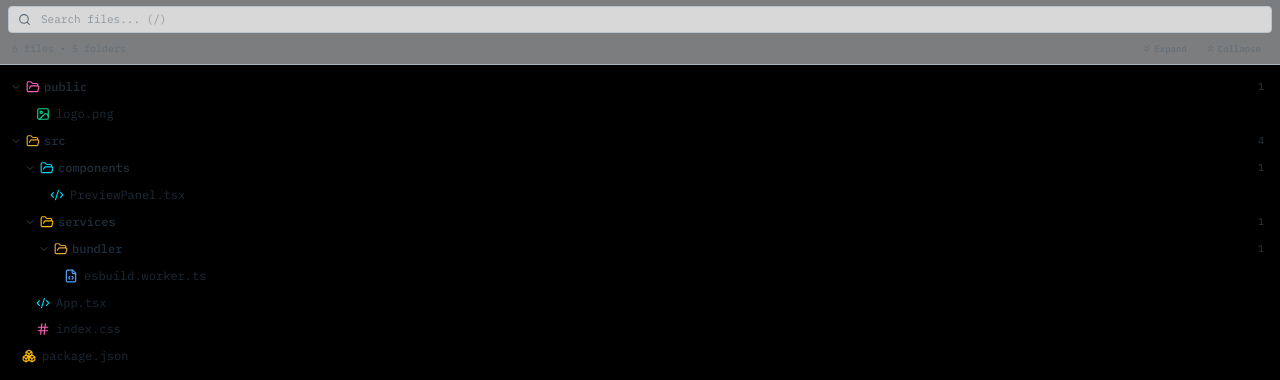
Test: FileTree & Global File Search › toggles folder expansion state on clicking folder node
// Click to collapse
Click the button with aria-label "Folder src, expanded".
click(16, 140)  # box [10,132,1264,148]
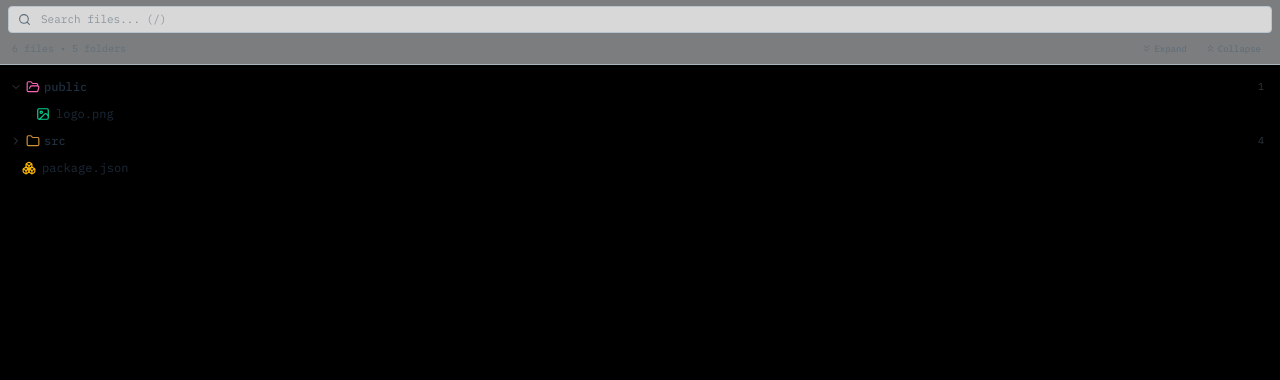
expect the button with aria-label "Folder src, collapsed" is collapsed: met
// Click to expand again
Click the button with aria-label "Folder src, collapsed".
click(16, 140)  # box [10,132,1264,148]
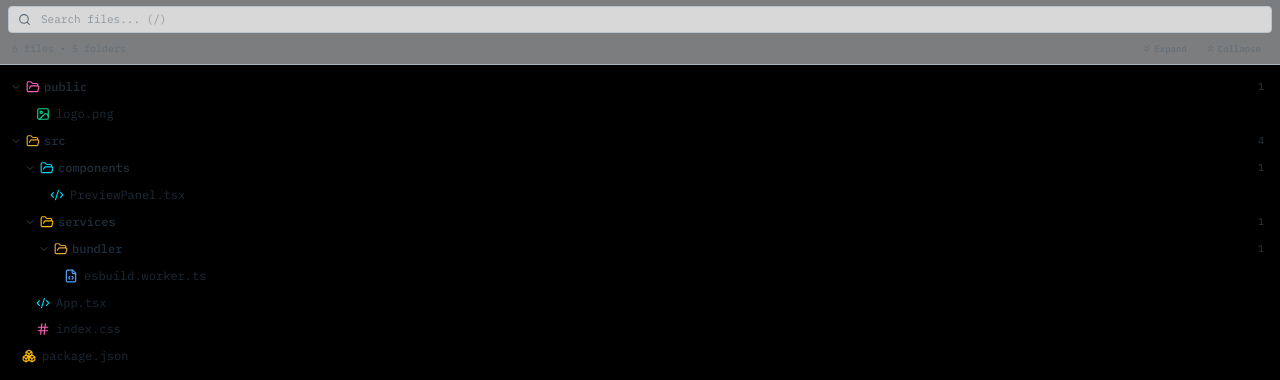
expect the button with aria-label "Folder src, expanded" is expanded: met, box [10,132,1264,148]
